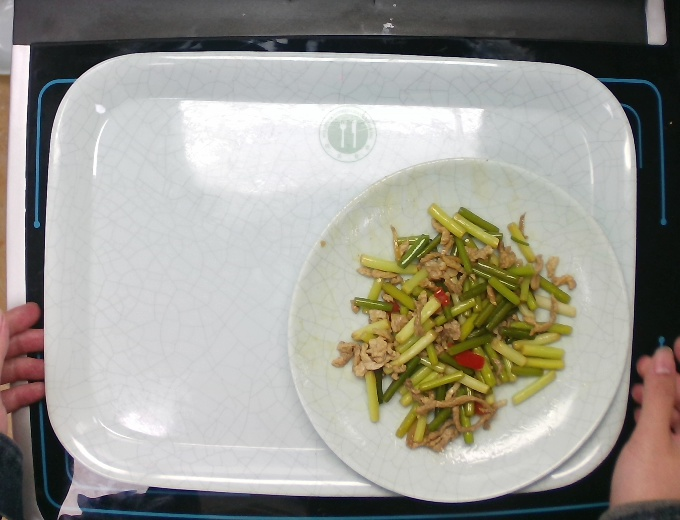JYsf-Da_Yuan_Pan: (280, 150, 637, 508)
